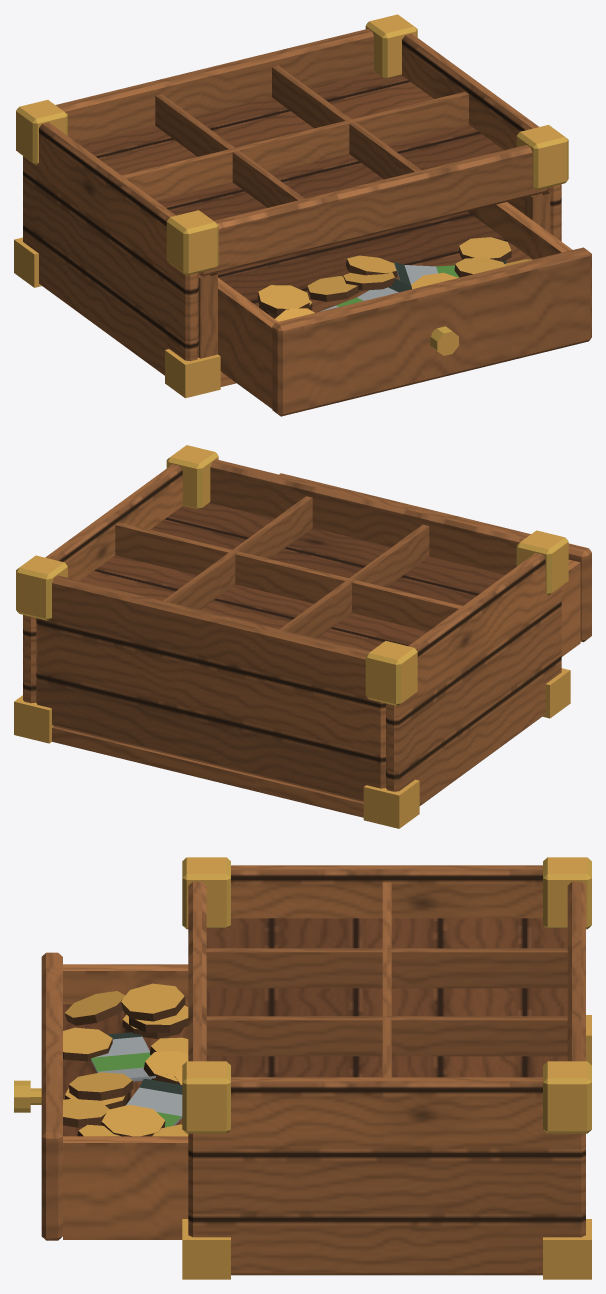
Rendered from FMS_Stall_Cashbox.fbx.
3 views of the same model, one above another, from view 1: azimuth 30°, elevation 25°; view 2: azimuth 150°, elevation 25°; view 3: azimuth 270°, elevation 25° (orthographic). The views are drawn at different scales.
Visible parts, largest first — view 1: item_stalls_cashbox; view 2: item_stalls_cashbox; view 3: item_stalls_cashbox.
Part boxes in pixels (<box>): item_stalls_cashbox: <box>14,14,591,416</box>; item_stalls_cashbox: <box>14,445,591,828</box>; item_stalls_cashbox: <box>14,857,591,1279</box>.
Size of the model in its own units: 0.348 by 0.144 by 0.378.
